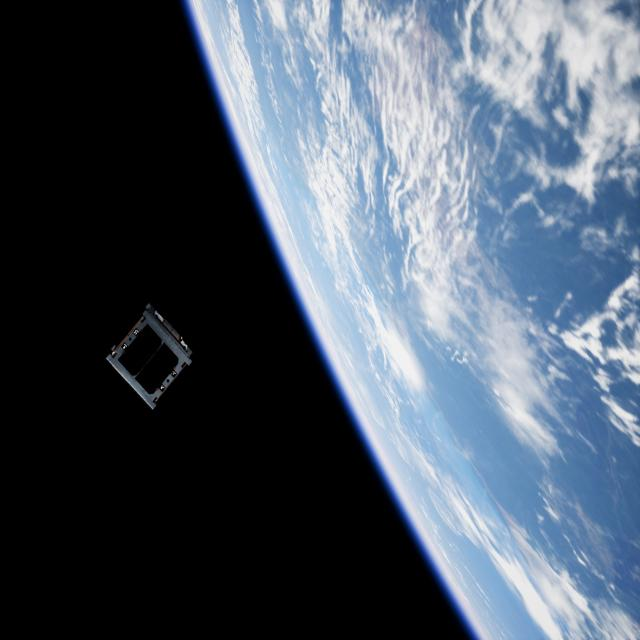medium_debris: (105, 302, 200, 416)
